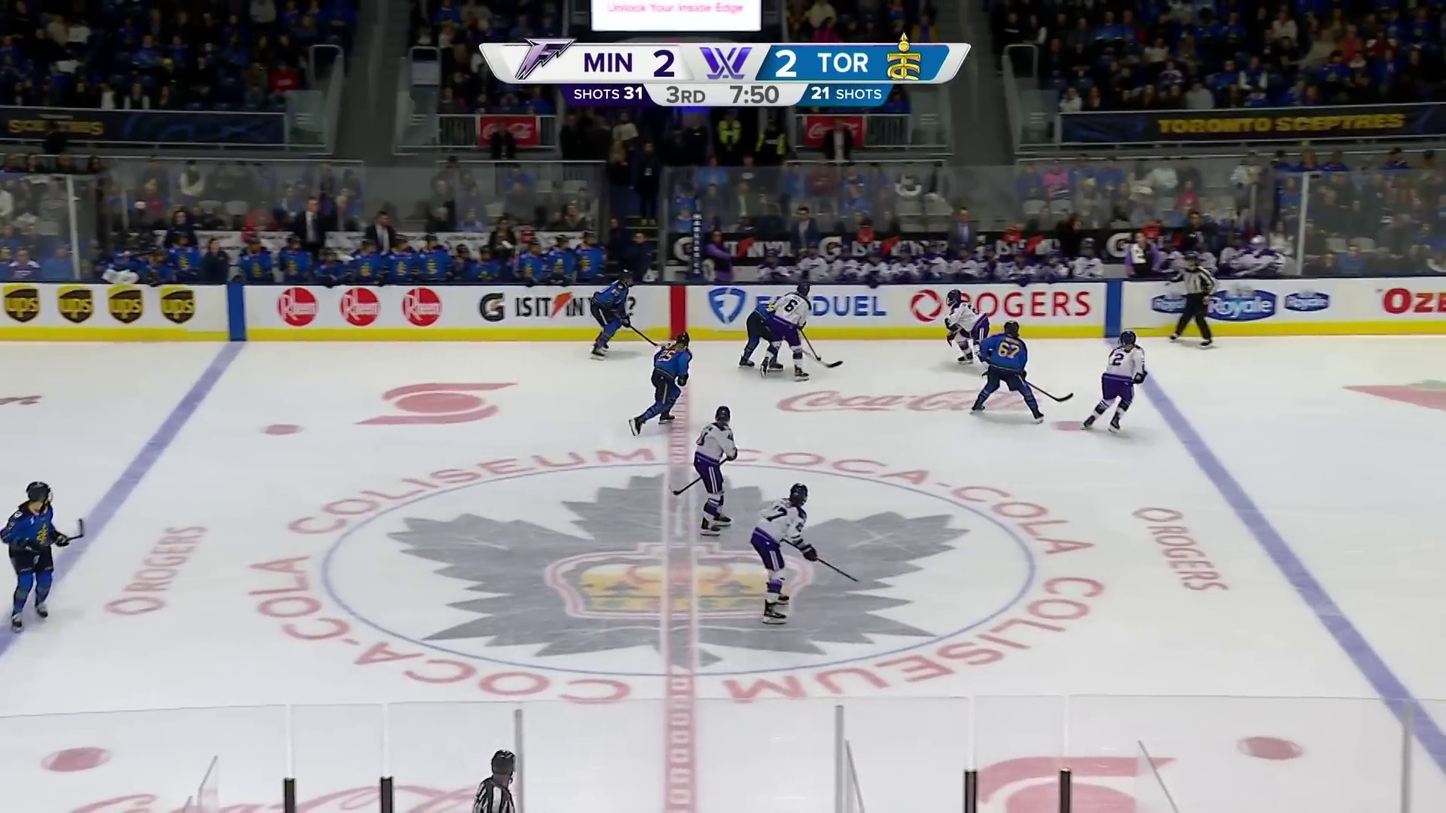player: (745, 482, 822, 625), (3, 480, 74, 633), (968, 320, 1046, 422), (628, 329, 694, 436), (1083, 329, 1148, 434), (690, 403, 738, 536), (757, 281, 812, 383), (587, 268, 636, 359)
referee: (1168, 252, 1220, 349)
